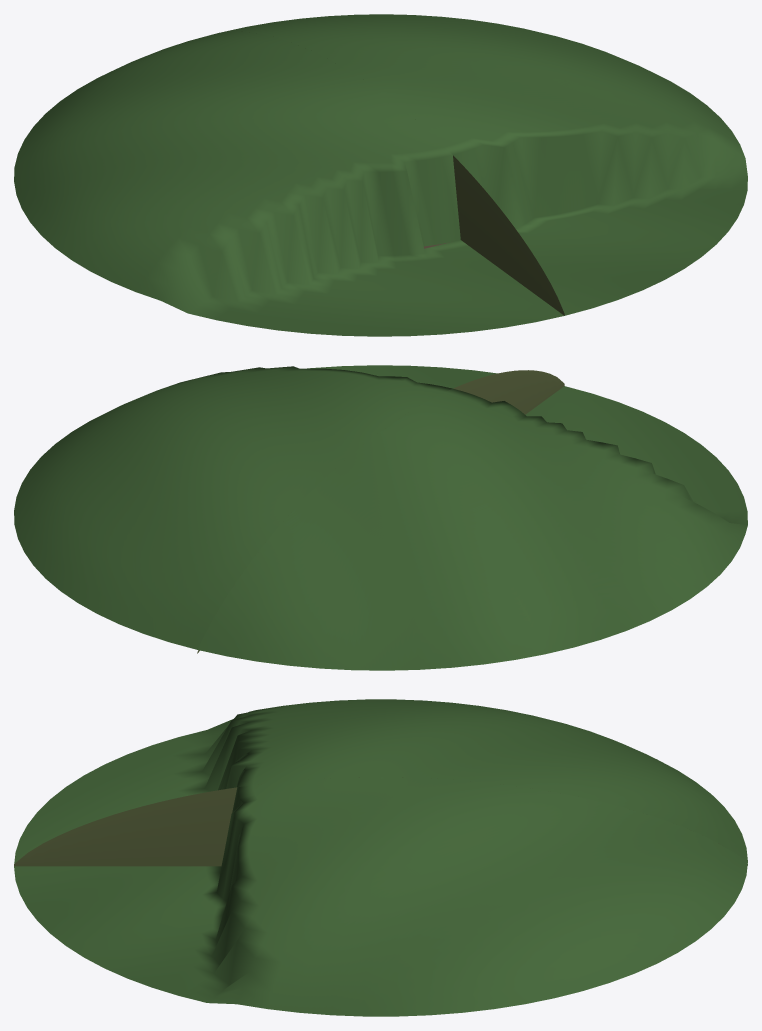
Rendered from loughcrew_cairn_l.glb.
3 renders of one model, top to bottom at view 1: azimuth 30°, elevation 25°; view 2: azimuth 150°, elevation 25°; view 3: azimuth 270°, elevation 25°, orthographic.
Visible parts, largest first — view 1: loughcrew_mound_west, loughcrew_mound_east; view 2: loughcrew_mound_west, loughcrew_mound_east; view 3: loughcrew_mound_east, loughcrew_mound_west.
Boxes of the visible parts, box(x1,y1,x2,y2) form: loughcrew_mound_west: box(14, 31, 564, 336); loughcrew_mound_east: box(222, 14, 747, 315); loughcrew_mound_west: box(197, 370, 747, 670); loughcrew_mound_east: box(14, 365, 562, 649); loughcrew_mound_east: box(14, 777, 747, 1016); loughcrew_mound_west: box(14, 699, 747, 866).
Size of the model in its own units: 40.96 by 5.65 by 41.
